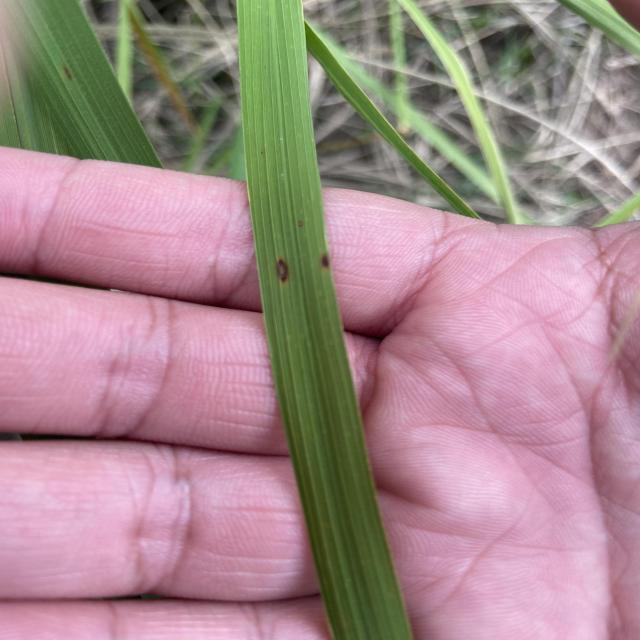Dao on: (276, 257, 289, 284), (320, 253, 329, 270)
